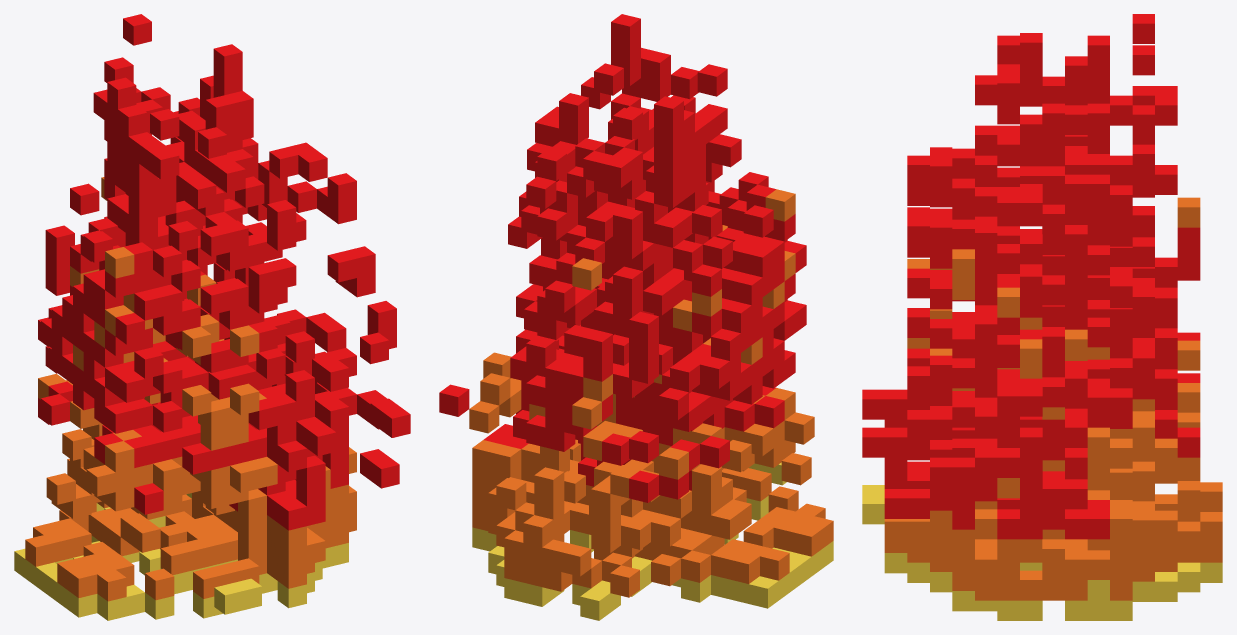
Rendered from campfire.obj.
3 renders of one model, left to right at view 1: azimuth 30°, elevation 25°; view 2: azimuth 150°, elevation 25°; view 3: azimuth 270°, elevation 25°, orthographic. The views are drawn at different scales.
Parts seen in each view (by area): view 1: campfire; view 2: campfire; view 3: campfire.
Boxes of the visible parts, x1,y1,x2,y2 form: campfire: (14,14,410,620); campfire: (439,14,833,620); campfire: (862,14,1222,620).
Size of the model in its own units: 1.6 by 2.6 by 1.6.
1 material, 1 textured.
